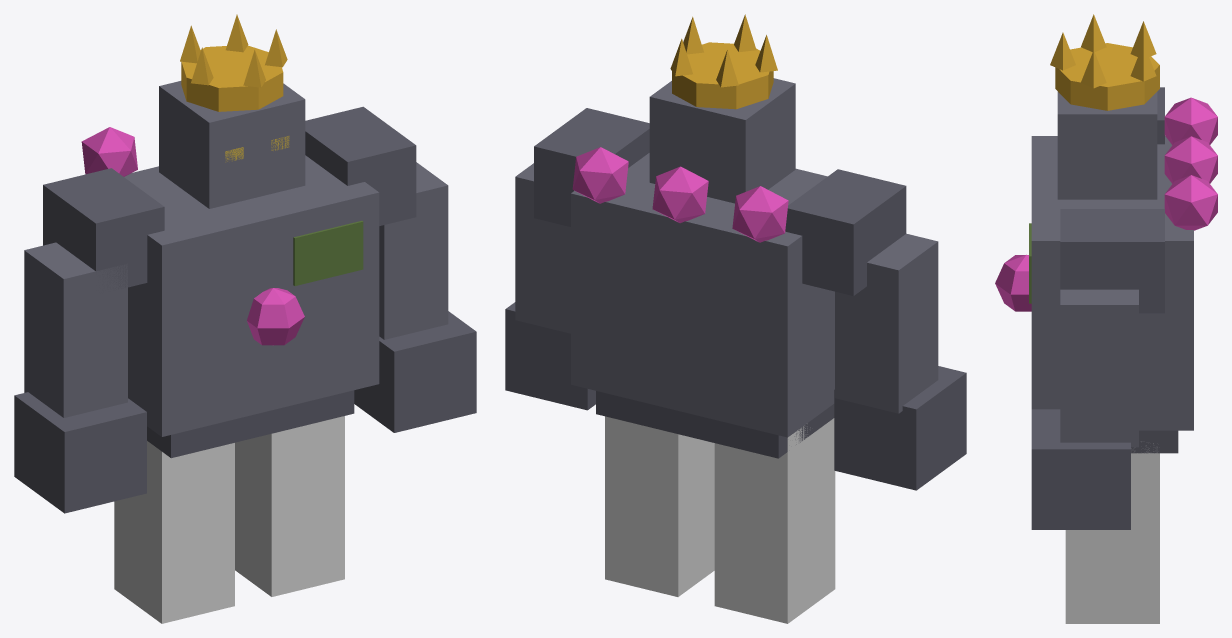
Rendered from b_golemking.fbx.
The picture shows the model from 3 angles, left to right: view 1: azimuth 30°, elevation 25°; view 2: azimuth 150°, elevation 25°; view 3: azimuth 270°, elevation 25°; orthographic projection.
Parts seen in each view (by area): view 1: b_golemking_Body, b_golemking_ArmR, b_golemking_ArmL, b_golemking_LegR, b_golemking_LegL; view 2: b_golemking_Body, b_golemking_ArmR, b_golemking_LegR, b_golemking_LegL, b_golemking_ArmL; view 3: b_golemking_Body, b_golemking_ArmL, b_golemking_LegL.
Boxes of the visible parts, left/top/right/bottom form: b_golemking_Body: left=43, top=14, right=416, bottom=458; b_golemking_ArmR: left=14, top=242, right=146, bottom=513; b_golemking_ArmL: left=354, top=162, right=476, bottom=432; b_golemking_LegR: left=114, top=441, right=234, bottom=623; b_golemking_LegL: left=235, top=416, right=344, bottom=596; b_golemking_Body: left=534, top=14, right=906, bottom=458; b_golemking_ArmR: left=834, top=233, right=966, bottom=490; b_golemking_LegR: left=714, top=418, right=835, bottom=623; b_golemking_LegL: left=605, top=416, right=714, bottom=596; b_golemking_ArmL: left=505, top=163, right=595, bottom=410; b_golemking_Body: left=995, top=14, right=1217, bottom=453; b_golemking_ArmL: left=1031, top=289, right=1138, bottom=529; b_golemking_LegL: left=1065, top=441, right=1159, bottom=623.
Size of the model in its own units: 1.8 by 2.31 by 0.8521.
